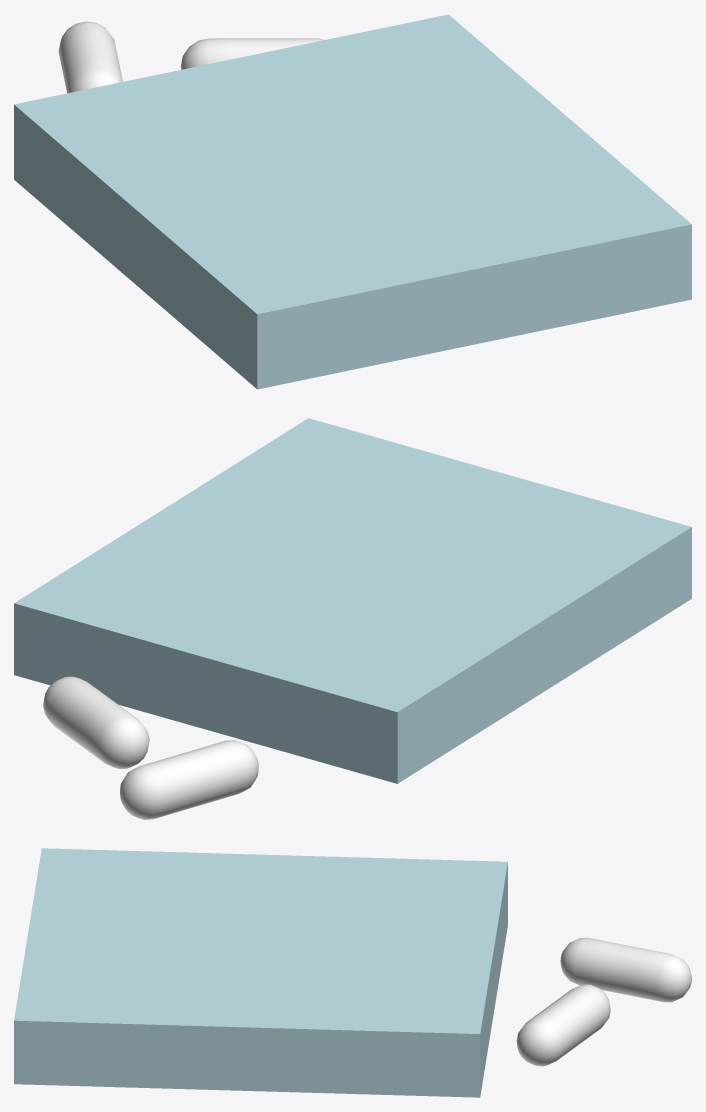
The model's file is pills.dae.
3 views of the same model, one above another, from view 1: azimuth 30°, elevation 25°; view 2: azimuth 150°, elevation 25°; view 3: azimuth 270°, elevation 25° (orthographic). The views are drawn at different scales.
Parts seen in each view (by area): view 1: Bag, Capsule2, Capsule1; view 2: Bag, Capsule2, Capsule1; view 3: Bag, Capsule2, Capsule1.
Boxes of the visible parts, bbox=[...] form: Bag: bbox=[14, 14, 691, 389]; Capsule2: bbox=[58, 21, 122, 93]; Capsule1: bbox=[180, 38, 324, 69]; Bag: bbox=[14, 418, 691, 783]; Capsule2: bbox=[120, 740, 258, 819]; Capsule1: bbox=[43, 676, 149, 768]; Bag: bbox=[14, 848, 507, 1097]; Capsule2: bbox=[560, 937, 691, 1002]; Capsule1: bbox=[516, 984, 610, 1066].
Bounding box in the file's own units: 6.27 × 1.09 × 9.67.
